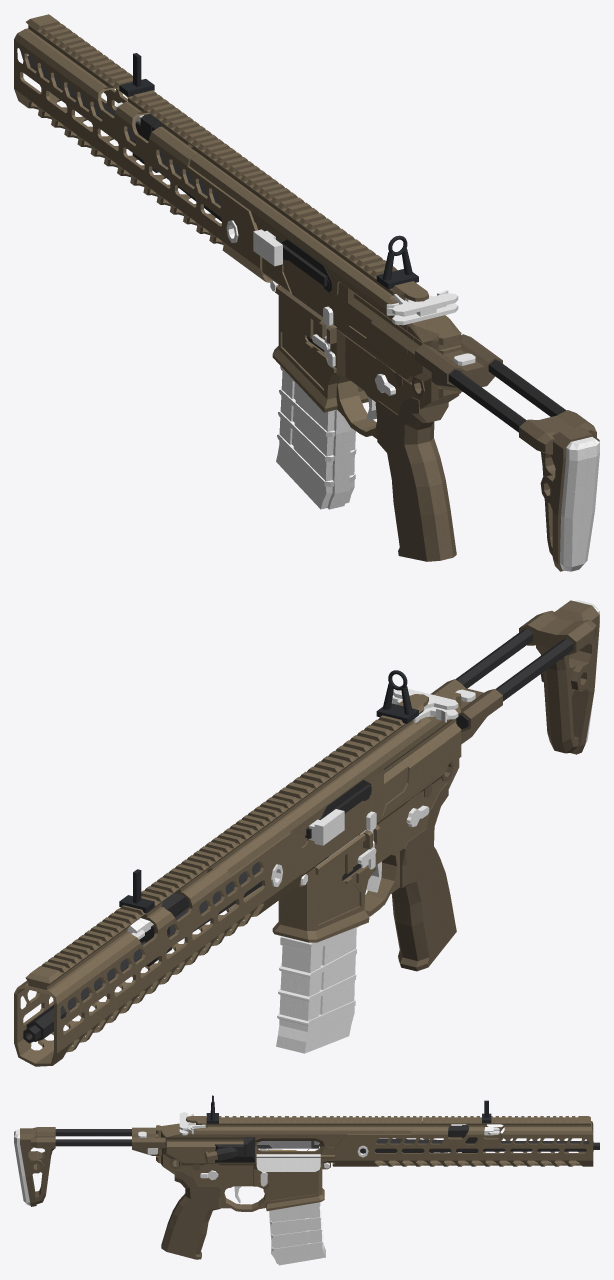
3 views of the same model, one above another, from view 1: azimuth 30°, elevation 25°; view 2: azimuth 150°, elevation 25°; view 3: azimuth 270°, elevation 25° (orthographic). The views are drawn at different scales.
Parts seen in each view (by area): view 1: body, mag, charge, rearsight; view 2: body, mag, rearsight, charge; view 3: body, mag, boltCarrier, charge.
Boxes of the visible parts, box(x1,y1,x2,y2) form: body: box(14, 14, 599, 571); mag: box(276, 290, 356, 509); charge: box(386, 290, 458, 325); rearsight: box(376, 235, 418, 289); body: box(14, 600, 599, 1066); mag: box(276, 835, 358, 1053); rearsight: box(376, 670, 418, 723); charge: box(391, 688, 458, 723); body: box(14, 1100, 599, 1259); mag: box(267, 1148, 325, 1265); boltCarrier: box(257, 1141, 320, 1148); charge: box(179, 1112, 205, 1135).
Size of the model in its own units: 0.0605 by 0.2377 by 0.76.
Materials: 9 (9 with a texture image).
